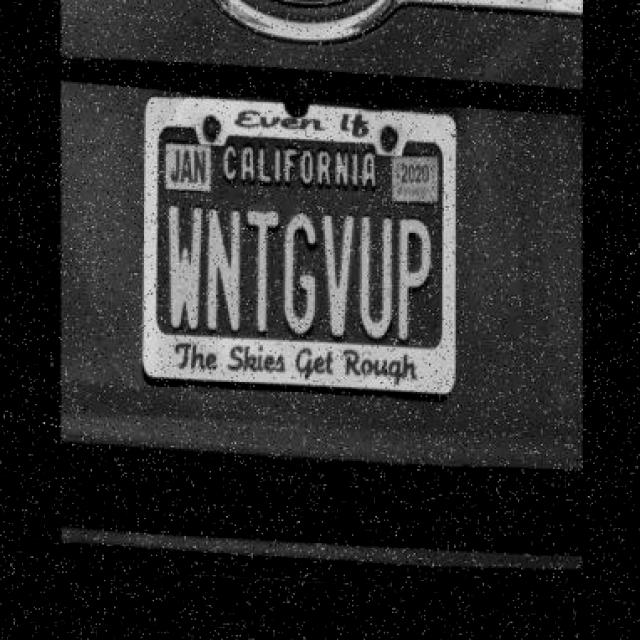licenseplate: (144, 93, 454, 395)
